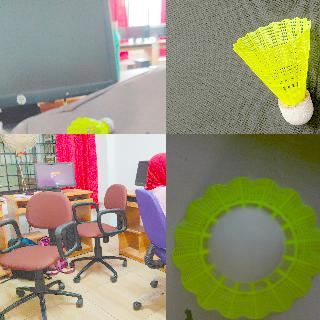shuttlecock: (171, 177, 319, 319), (232, 17, 312, 125), (66, 117, 113, 133)
